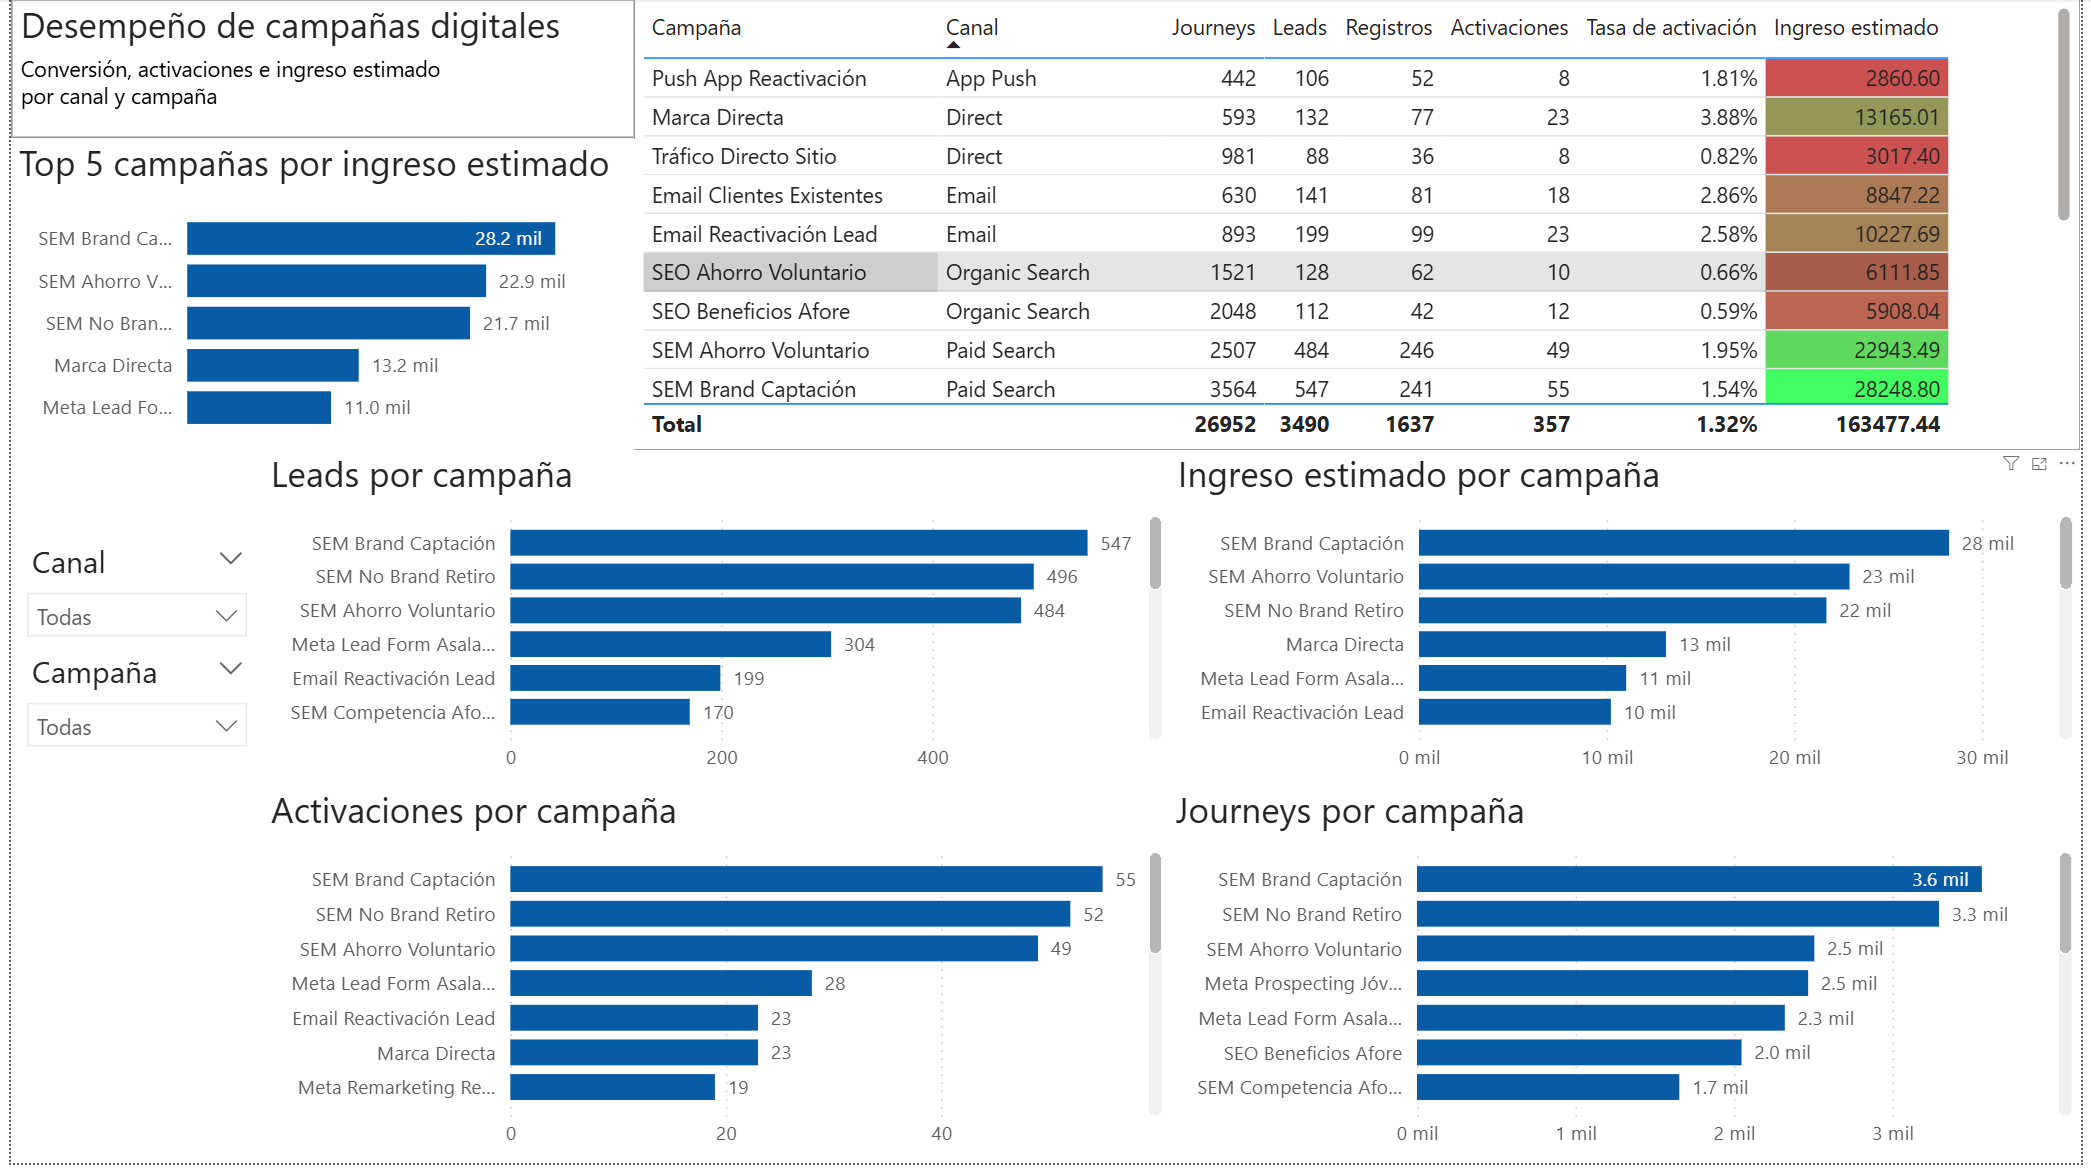

The page's visual inventory and layout, read from the dashboard file:
{"tool":"powerbi","page":{"name":"Campañas","canvas":[1280,720],"ordinal":1},"visuals":[{"type":"barChart","title":"Activaciones por campaña","fields":{"Category":["DimCampaign.campaign_name"],"Y":["Campaign Performance.Campaign Activations"]},"box":[155.8,486.9,560.9,232.9],"z":0},{"type":"barChart","title":"Journeys por campaña","fields":{"Category":["DimCampaign.campaign_name"],"Y":["Campaign Performance.Campaign Journeys"]},"box":[716,486.9,564,232.9],"z":1000},{"type":"barChart","title":"Leads por campaña","fields":{"Category":["DimCampaign.campaign_name"],"Y":["Campaign Performance.Campaign Leads"]},"box":[155.8,278.9,560.9,208],"z":2000},{"type":"barChart","title":"Ingreso estimado por campaña","fields":{"Category":["DimCampaign.campaign_name"],"Y":["Campaign Performance.Campaign Revenue"]},"box":[716.7,278.9,563.3,208],"z":3000},{"type":"tableEx","fields":{"Values":["DimCampaign.campaign_name","DimChannel.channel_name","Campaign Performance.Campaign Journeys","Campaign Performance.Campaign Leads","Campaign Performance.Campaign Registrations","Campaign Performance.Campaign Activations","Campaign Performance.Campaign Activation Rate","Campaign Performance.Campaign Revenue"]},"box":[385.6,0,894.4,278.9],"z":4000},{"type":"slicer","fields":{"Values":["DimCampaign.campaign_name"]},"box":[0,398.1,155.8,67],"z":5000},{"type":"textbox","title":"Desempeño de campañas digitales","box":[0,0,385.6,86.5],"z":6000},{"type":"slicer","fields":{"Values":["DimChannel.channel_name"]},"box":[0,330.3,155.8,67.8],"z":7000},{"type":"clusteredBarChart","title":"Top 5 campañas por ingreso estimado","fields":{"Category":["DimCampaign.campaign_name"],"Y":["Campaign Performance.Campaign Revenue"]},"box":[0,86.5,385.6,192.4],"z":8000}]}

Visuals, with their boxes in screenshot pixels (x1, y1, x2, y2), scaled from the page's 1280x720 canvas onto the 2091x1168 screenshot:
"Activaciones por campaña" barChart: <region>255, 790, 1171, 1167</region>
"Journeys por campaña" barChart: <region>1170, 790, 2090, 1167</region>
"Leads por campaña" barChart: <region>255, 452, 1171, 790</region>
"Ingreso estimado por campaña" barChart: <region>1171, 452, 2090, 790</region>
tableEx - DimCampaign.campaign_name x DimChannel.channel_name: <region>630, 0, 2090, 452</region>
slicer - DimCampaign.campaign_name: <region>0, 646, 255, 754</region>
"Desempeño de campañas digitales" textbox: <region>0, 0, 630, 140</region>
slicer - DimChannel.channel_name: <region>0, 536, 255, 646</region>
"Top 5 campañas por ingreso estimado" clusteredBarChart: <region>0, 140, 630, 452</region>
